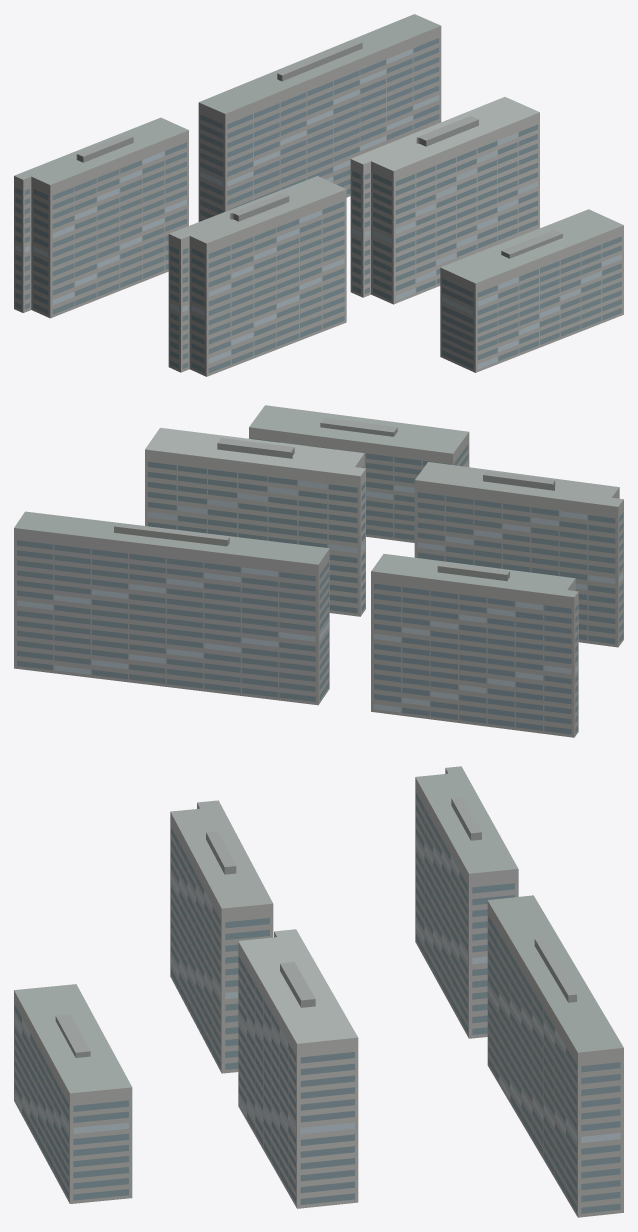
Rendered from apt-a13594402.glb.
3 renders of one model, top to bottom at view 1: azimuth 30°, elevation 25°; view 2: azimuth 150°, elevation 25°; view 3: azimuth 270°, elevation 25°, orthographic. The views are drawn at different scales.
Parts seen in each view (by area): view 1: apt-a13594402; view 2: apt-a13594402; view 3: apt-a13594402.
Part boxes in pixels (x1,y1,x2,y2): apt-a13594402: (14,14,623,376); apt-a13594402: (14,405,623,737); apt-a13594402: (14,766,623,1217).
Bounding box in the file's own units: 159 × 44.62 × 143.
